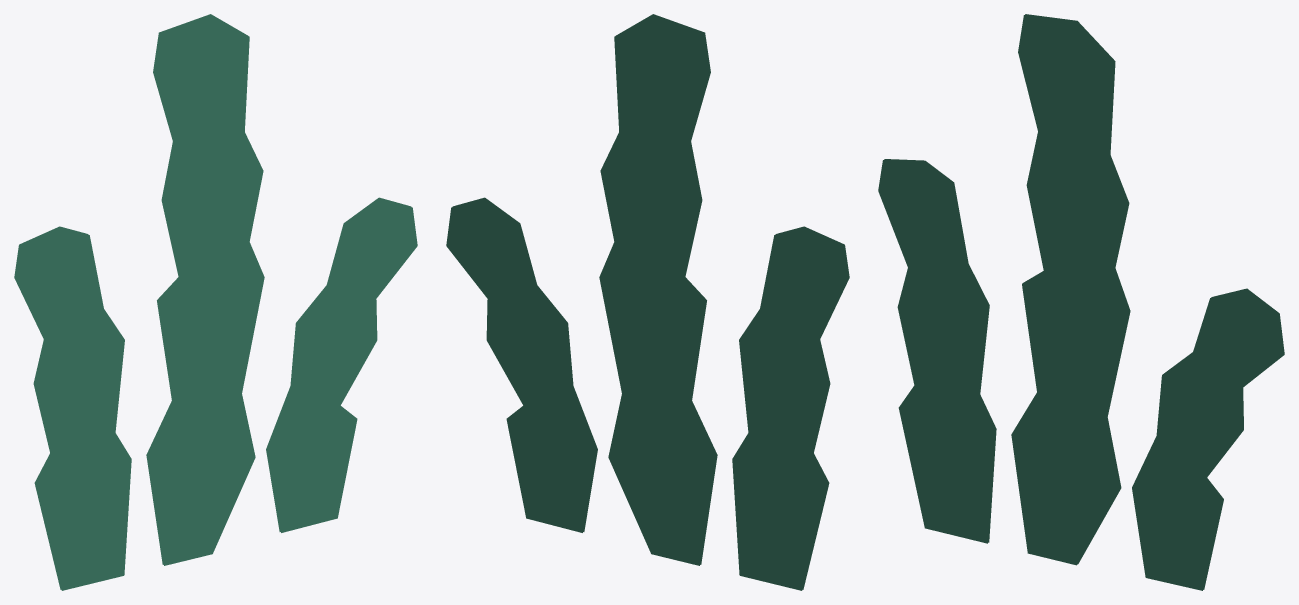
The model's file is Algae4.fbx.
3 renders of one model, left to right at view 1: azimuth 30°, elevation 25°; view 2: azimuth 150°, elevation 25°; view 3: azimuth 330°, elevation 25°, orthographic.
Parts seen in each view (by area): view 1: Algae4; view 2: Algae4; view 3: Algae4.
Part boxes in pixels (x1=…): Algae4: x1=14, y1=14, x2=417, y2=590; Algae4: x1=446, y1=14, x2=849, y2=590; Algae4: x1=878, y1=14, x2=1284, y2=590.
Bounding box in the file's own units: 0.5081 × 0.6511 × 0.00295.
